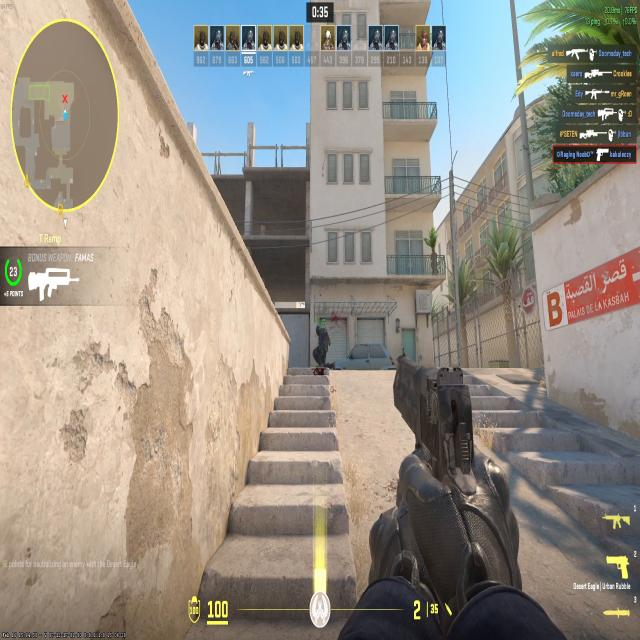player: (309, 326, 336, 371)
